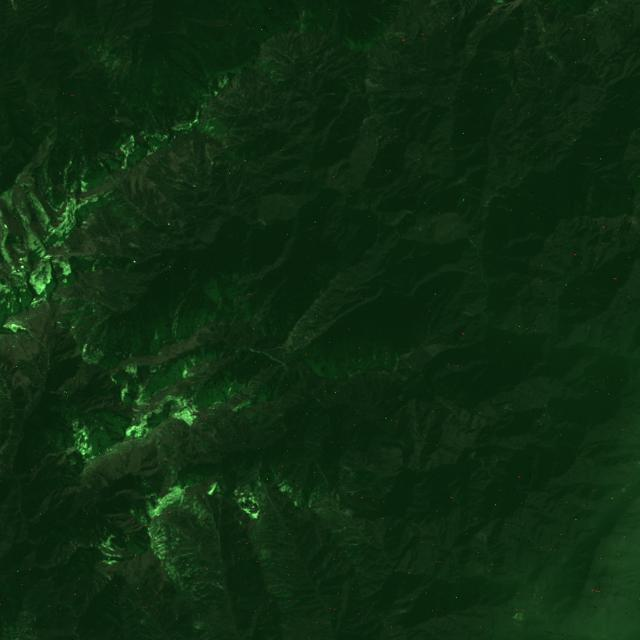landslides: (202, 248, 219, 302), (367, 12, 388, 28), (111, 447, 125, 470), (169, 550, 198, 560), (127, 438, 136, 467), (351, 543, 371, 556), (205, 580, 226, 592), (389, 242, 405, 256), (189, 364, 203, 380), (529, 391, 542, 408), (129, 243, 145, 254), (231, 77, 242, 93), (333, 526, 350, 535), (344, 535, 365, 542), (364, 79, 382, 87), (623, 325, 635, 337), (431, 345, 444, 356), (511, 186, 522, 199), (342, 467, 365, 473), (261, 506, 276, 515), (178, 364, 186, 380), (63, 243, 72, 257), (206, 150, 213, 168), (206, 363, 215, 377), (137, 219, 148, 230), (149, 538, 164, 546), (177, 542, 193, 549), (0, 415, 14, 423), (42, 297, 50, 311), (490, 284, 503, 292), (317, 362, 325, 375), (220, 347, 230, 357)
